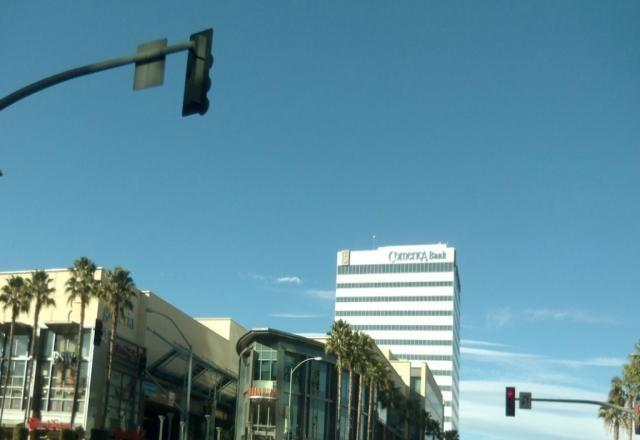red_light: (506, 387, 515, 416)
